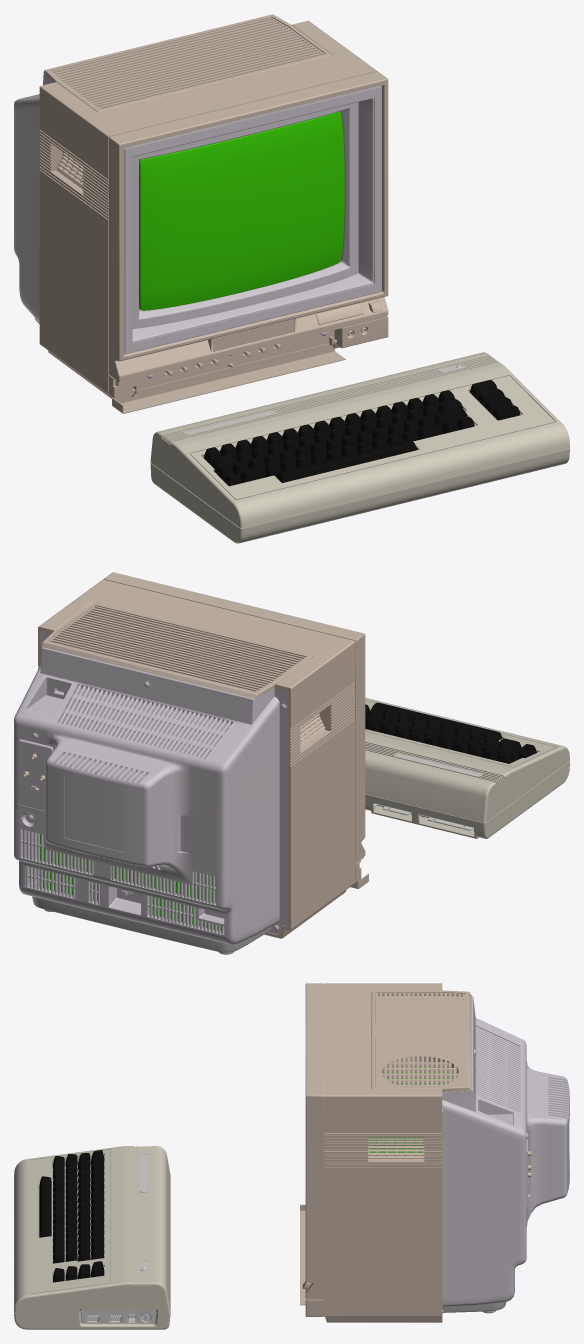
Rendered from laptop.obj.
The picture shows the model from 3 angles, top to bottom: view 1: azimuth 30°, elevation 25°; view 2: azimuth 150°, elevation 25°; view 3: azimuth 270°, elevation 25°; orthographic projection. The views are drawn at different scales.
Visible parts, largest first — view 1: video_monitor_1702, commodore_64, monitor_cap; view 2: video_monitor_1702, commodore_64, monitor_plug; view 3: video_monitor_1702, commodore_64, monitor_cap, monitor_plug.
Part boxes in pixels (box(x1,y1,x2,y2)): video_monitor_1702: box(14, 14, 388, 399); commodore_64: box(150, 352, 569, 543); monitor_cap: box(112, 339, 345, 413); video_monitor_1702: box(14, 572, 365, 954); commodore_64: box(365, 698, 569, 838); monitor_plug: box(39, 834, 221, 931); video_monitor_1702: box(302, 983, 569, 1322); commodore_64: box(14, 1146, 170, 1329); monitor_cap: box(300, 1204, 305, 1305); monitor_plug: box(369, 1037, 453, 1152).
Bounding box in the file's own units: 0.4066 × 0.319 × 0.6922.
